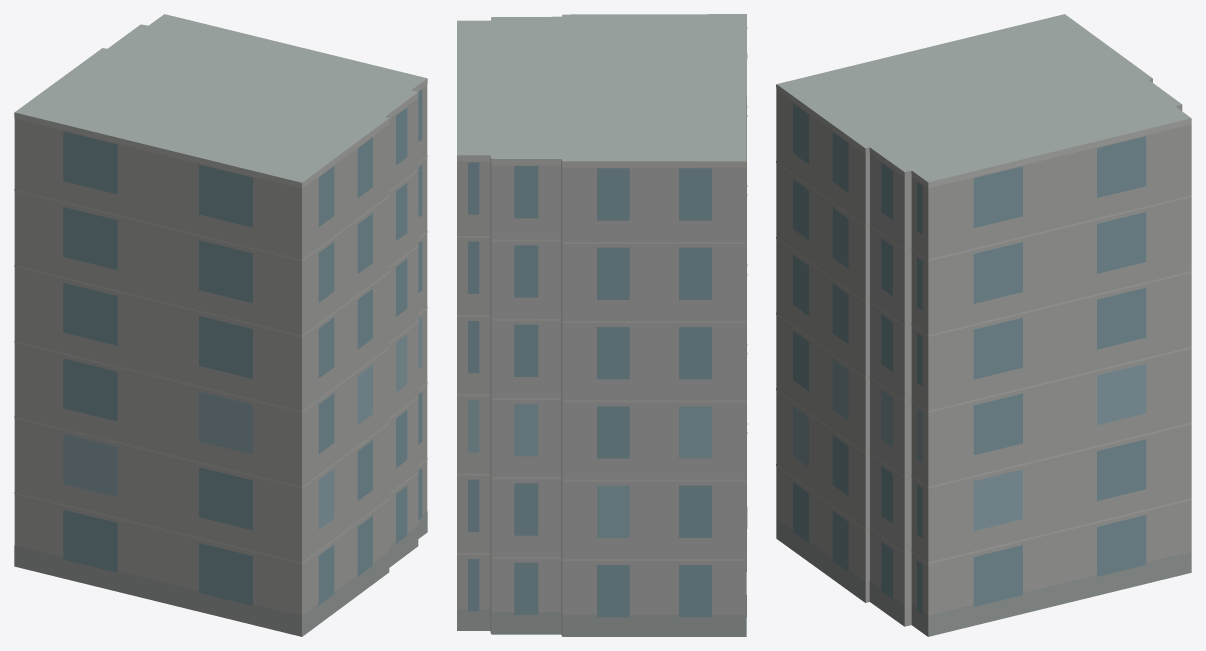
The model's file is survey-upis-32764831.glb.
3 views of the same model, side by side, from view 1: azimuth 30°, elevation 25°; view 2: azimuth 150°, elevation 25°; view 3: azimuth 270°, elevation 25° (orthographic). The views are drawn at different scales.
Visible parts, largest first — view 1: survey-upis-32764831.tmp; view 2: survey-upis-32764831.tmp; view 3: survey-upis-32764831.tmp.
Part boxes in pixels (x1=…): survey-upis-32764831.tmp: x1=14, y1=14, x2=427, y2=636; survey-upis-32764831.tmp: x1=457, y1=14, x2=747, y2=636; survey-upis-32764831.tmp: x1=776, y1=14, x2=1191, y2=636.
Size of the model in its own units: 14.64 by 18.4 by 15.25.
